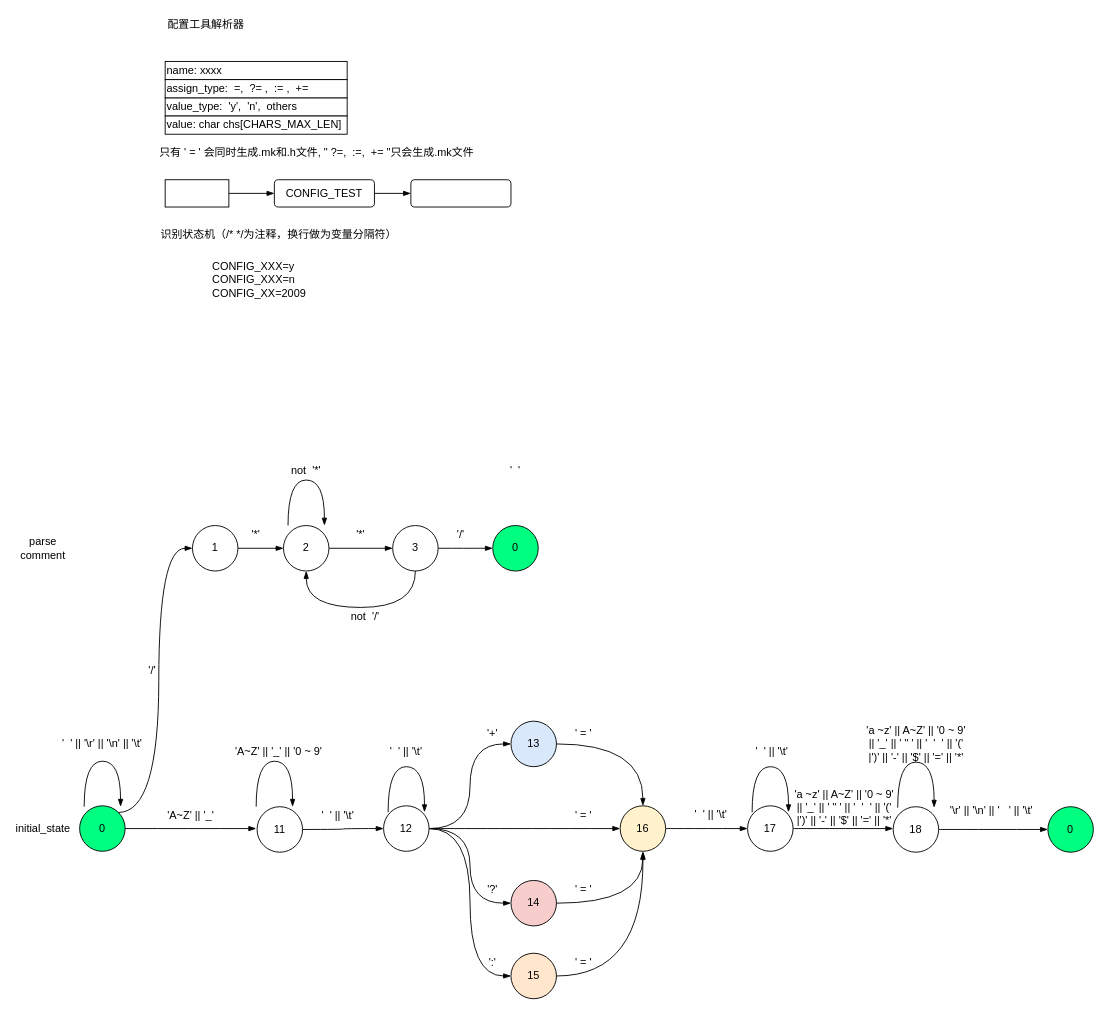
The diagram is 1109 pixels wide and 1015 high, and some of its shapes have lost their labels. Each missing label, with the box of its shape:
.config: (164, 179, 229, 207)
CONFIG_XXX: (410, 179, 511, 207)
